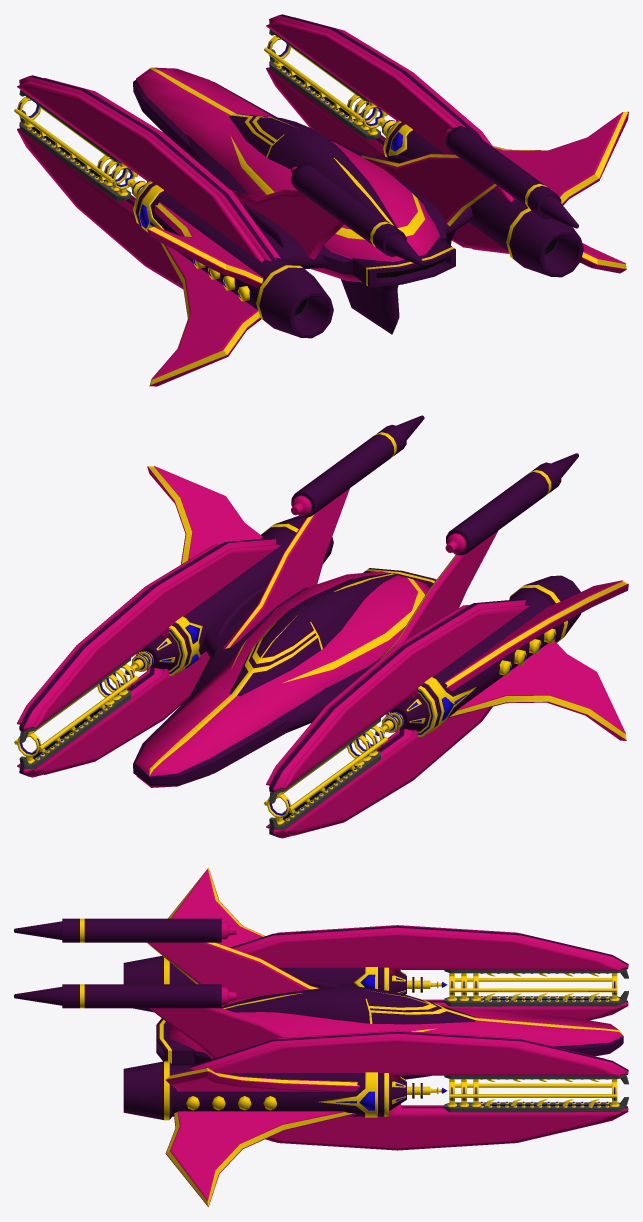
Rendered from AlienStarfighter24.obj.
The picture shows the model from 3 angles, top to bottom: view 1: azimuth 30°, elevation 25°; view 2: azimuth 150°, elevation 25°; view 3: azimuth 270°, elevation 25°; orthographic projection. The views are drawn at different scales.
Parts seen in each view (by area): view 1: Cylinder.003_Cylinder.005, Sphere.002_Sphere.004, Cylinder.001_Cylinder.006, Cylinder.004_Cylinder.002, Cube.001, Cube.005, Cube.004_Cube.002, Sphere.001_Sphere.003, Cylinder.010_Cylinder.003, Cube.006, Cylinder.006_Cylinder.007, Cylinder.022_Cylinder.030 (+4 smaller); view 2: Cylinder.003_Cylinder.005, Sphere.002_Sphere.004, Cylinder.001_Cylinder.006, Cylinder.004_Cylinder.002, Cube.005, Cube.001, Sphere.001_Sphere.003, Cube.004_Cube.002, Cylinder.010_Cylinder.003, Cube.006, Cylinder.022_Cylinder.030, Loops_Cylinder.025 (+2 smaller); view 3: Cylinder.003_Cylinder.005, Cylinder.001_Cylinder.006, Cylinder.004_Cylinder.002, Sphere.002_Sphere.004, Cube.001, Cube.004_Cube.002, Sphere.001_Sphere.003, Cube.005, Cube.006, Cylinder.022_Cylinder.030, Loops_Cylinder.025, Cylinder.011_Cylinder.015 (+2 smaller).
Boxes of the visible parts, <box> form: Cylinder.003_Cylinder.005: <box>17,14,516,288</box>; Sphere.002_Sphere.004: <box>133,67,455,287</box>; Cylinder.001_Cylinder.006: <box>125,116,583,338</box>; Cylinder.004_Cylinder.002: <box>291,126,578,266</box>; Cube.001: <box>230,153,496,259</box>; Cube.005: <box>147,111,628,287</box>; Cube.004_Cube.002: <box>149,242,626,386</box>; Sphere.001_Sphere.003: <box>229,114,397,227</box>; Cylinder.010_Cylinder.003: <box>183,135,473,269</box>; Cube.006: <box>19,29,380,201</box>; Cylinder.006_Cylinder.007: <box>341,279,399,334</box>; Cylinder.022_Cylinder.030: <box>14,46,387,182</box>; Cylinder.003_Cylinder.005: <box>17,538,529,838</box>; Sphere.002_Sphere.004: <box>133,568,436,787</box>; Cylinder.001_Cylinder.006: <box>125,516,581,737</box>; Cylinder.004_Cylinder.002: <box>291,415,578,555</box>; Cube.005: <box>147,466,628,691</box>; Cube.001: <box>223,488,498,661</box>; Sphere.001_Sphere.003: <box>229,573,397,696</box>; Cube.004_Cube.002: <box>447,640,626,740</box>; Cylinder.010_Cylinder.003: <box>188,586,379,732</box>; Cube.006: <box>19,658,380,830</box>; Cylinder.022_Cylinder.030: <box>14,676,388,811</box>; Loops_Cylinder.025: <box>175,616,476,733</box>; Cylinder.003_Cylinder.005: <box>189,925,628,1150</box>; Cylinder.001_Cylinder.006: <box>123,956,447,1120</box>; Cylinder.004_Cylinder.002: <box>14,918,236,1008</box>; Sphere.002_Sphere.004: <box>156,994,623,1076</box>; Cube.001: <box>147,942,319,1059</box>; Cube.004_Cube.002: <box>165,1111,355,1206</box>; Sphere.001_Sphere.003: <box>221,986,476,1024</box>; Cube.005: <box>166,868,360,1091</box>; Cube.006: <box>444,969,628,1112</box>; Cylinder.022_Cylinder.030: <box>449,978,616,1097</box>; Loops_Cylinder.025: <box>319,967,377,1117</box>; Cylinder.011_Cylinder.015: <box>479,973,609,1107</box>.
Size of the model in its own units: 6.19 by 2.25 by 7.88.
